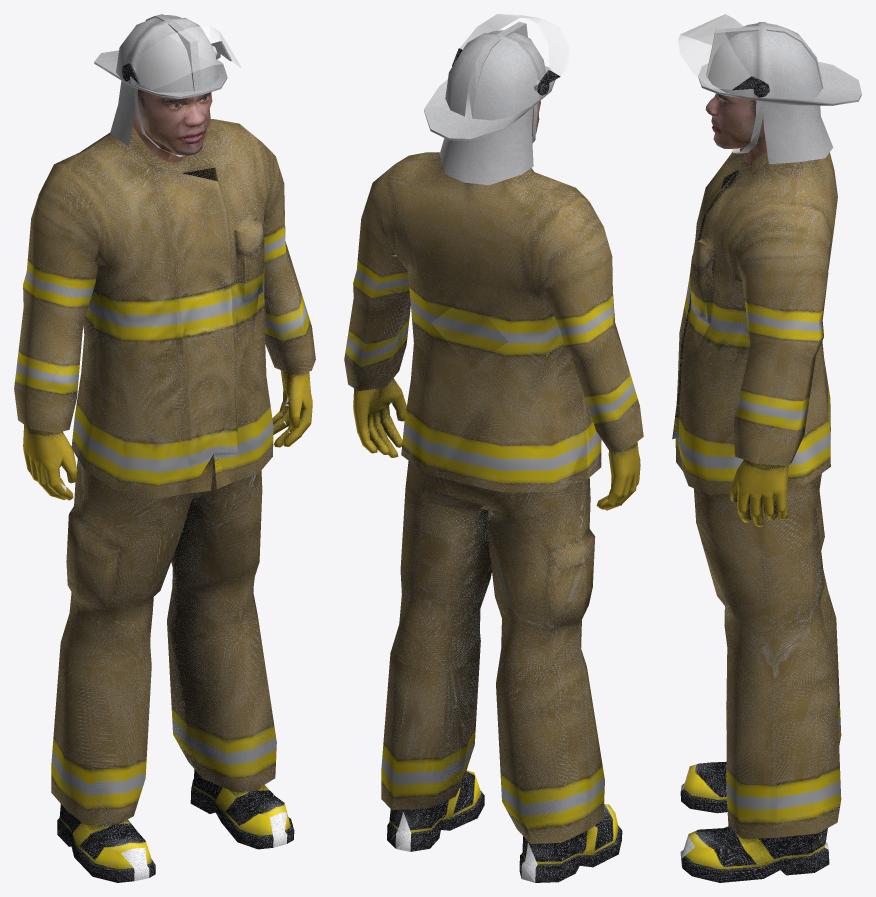
3 views of the same model, side by side, from view 1: azimuth 30°, elevation 25°; view 2: azimuth 150°, elevation 25°; view 3: azimuth 270°, elevation 25° (orthographic).
Parts seen in each view (by area): view 1: rest_1 (×8); view 2: rest_1 (×6); view 3: rest_1 (×8).
Part boxes in pixels (x1,y1,x2,y2): rest_1 (×8): (14, 14, 315, 882); rest_1 (×6): (344, 14, 643, 882); rest_1 (×8): (672, 14, 861, 882).
Size of the model in its own units: 27.83 by 16.2 by 76.8.
